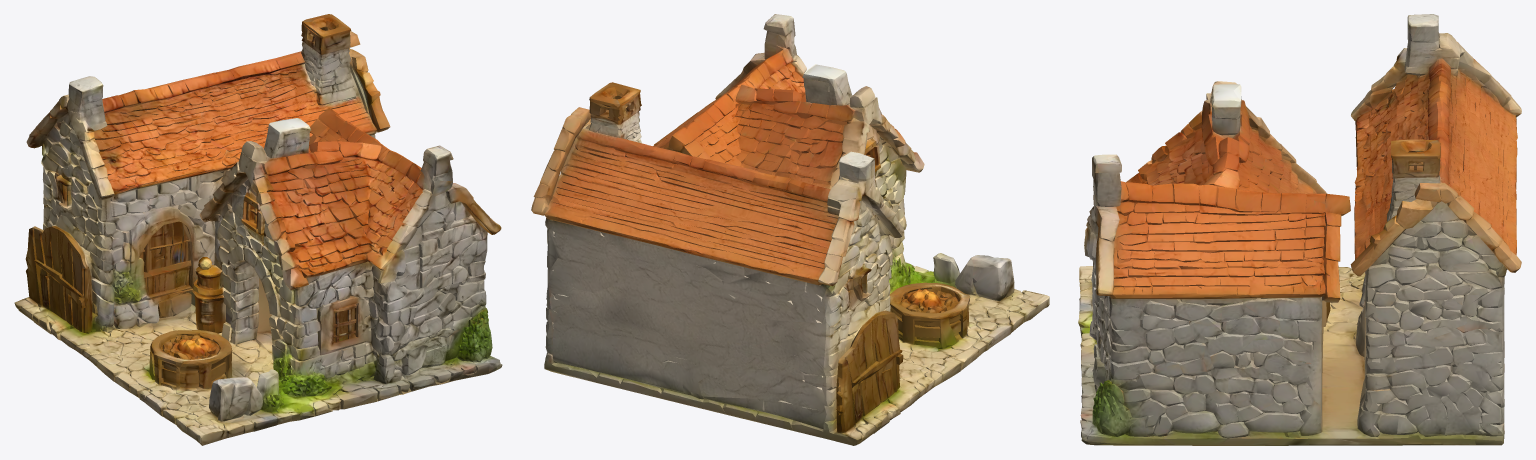
3 renders of one model, left to right at view 1: azimuth 30°, elevation 25°; view 2: azimuth 150°, elevation 25°; view 3: azimuth 270°, elevation 25°, orthographic. The views are drawn at different scales.
Parts seen in each view (by area): view 1: model; view 2: model; view 3: model.
Boxes of the visible parts, box(x1,y1,x2,y2) form: model: box(14, 14, 502, 445); model: box(531, 14, 1049, 445); model: box(1078, 14, 1521, 445).
Size of the model in its own units: 1.77 by 1.35 by 1.9.
Materials: 1 (1 with a texture image).
